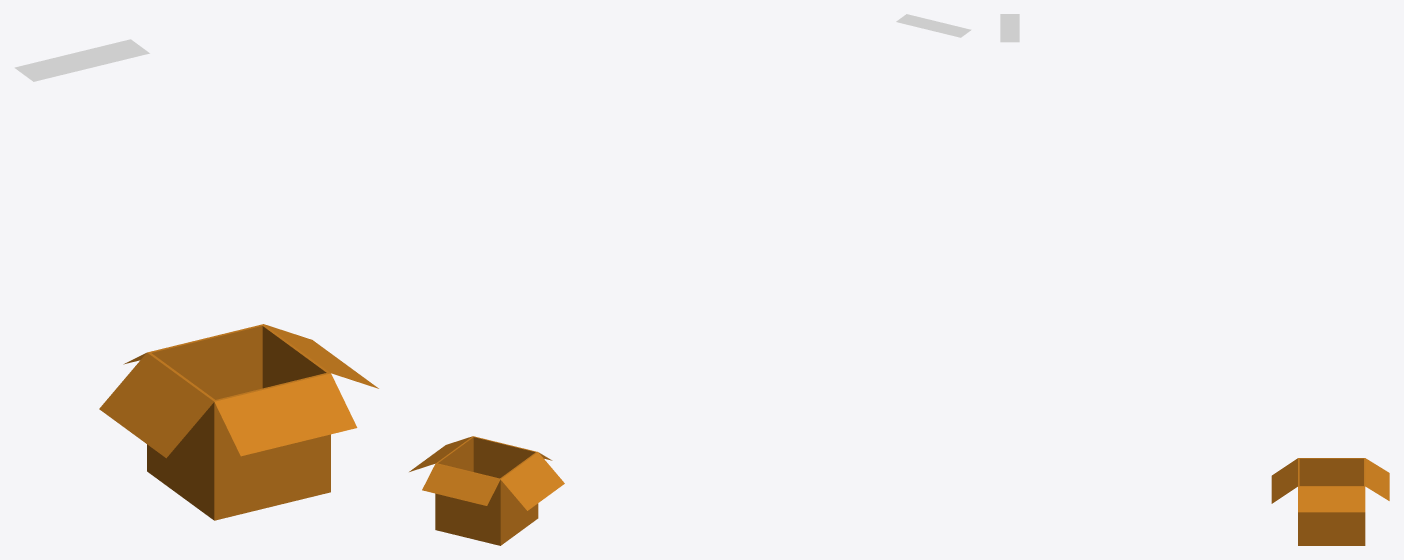
The model's file is box_carton.fbx.
3 renders of one model, left to right at view 1: azimuth 30°, elevation 25°; view 2: azimuth 150°, elevation 25°; view 3: azimuth 270°, elevation 25°, orthographic. The views are drawn at different scales.
Parts seen in each view (by area): view 1: Cube.001, Plane; view 2: Cube.001, Plane; view 3: Cube.001, Plane.
Part boxes in pixels (x1=…): Cube.001: x1=99, y1=324, x2=378, y2=520; Plane: x1=14, y1=39, x2=149, y2=81; Cube.001: x1=409, y1=436, x2=564, y2=545; Plane: x1=896, y1=14, x2=971, y2=37; Cube.001: x1=1271, y1=458, x2=1389, y2=545; Plane: x1=1000, y1=14, x2=1019, y2=42.
Bounding box in the file's own units: 1104 × 1267 × 1156.
